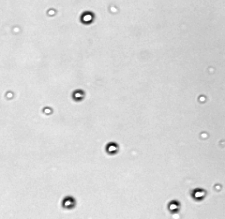Living Cell: (61, 195, 77, 209), (79, 10, 94, 24), (105, 142, 119, 155), (191, 188, 205, 200), (168, 200, 180, 212), (71, 90, 84, 101), (108, 4, 120, 14), (197, 94, 208, 104), (41, 106, 53, 115), (4, 90, 15, 99), (199, 131, 209, 140), (46, 9, 57, 17), (11, 26, 21, 34), (214, 183, 221, 191)
